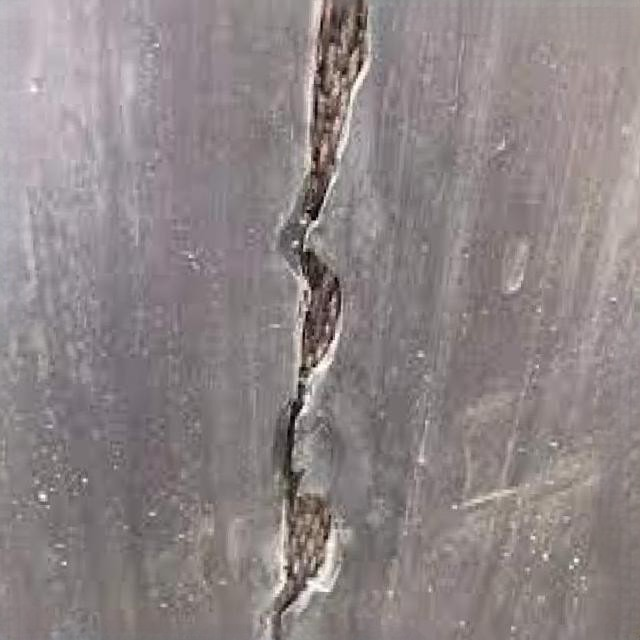Tear: (254, 4, 382, 640)
